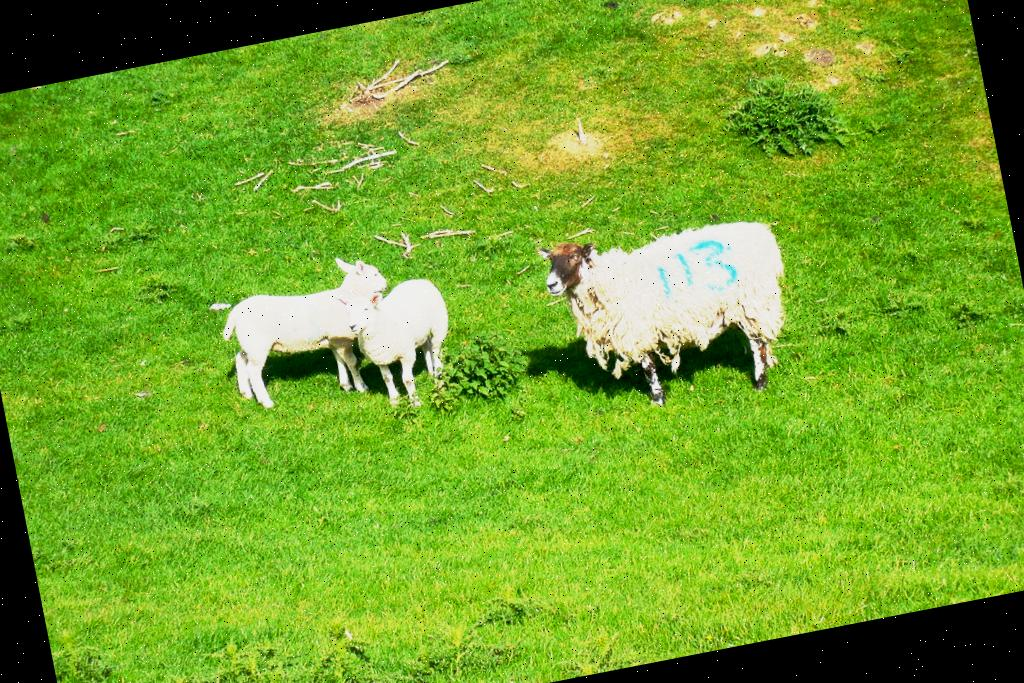Sheep: (524, 184, 812, 439), (211, 249, 405, 416), (327, 270, 466, 418)
